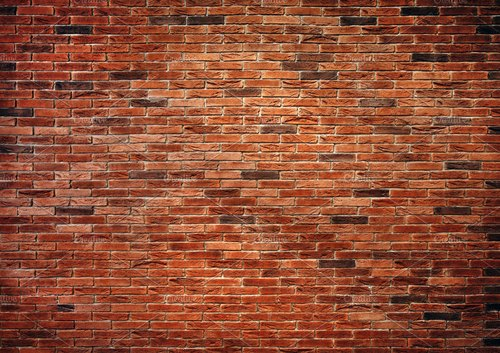wall: (8, 8, 497, 345)
